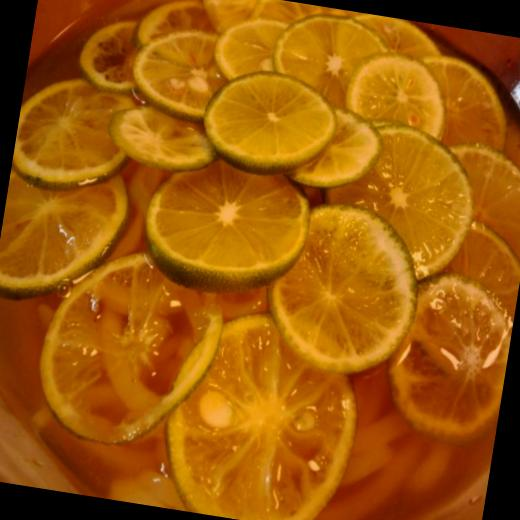Grape: (152, 298, 374, 520), (28, 238, 236, 464), (253, 200, 431, 392), (322, 112, 488, 290), (143, 153, 314, 304), (385, 269, 519, 445), (0, 150, 139, 309), (9, 66, 138, 198), (199, 61, 343, 179), (268, 3, 394, 117), (133, 22, 238, 125), (338, 44, 455, 132), (438, 136, 520, 259), (294, 101, 388, 200), (435, 52, 516, 151), (447, 218, 520, 318), (107, 106, 211, 176), (127, 0, 219, 63), (76, 14, 142, 100), (202, 0, 324, 42), (354, 18, 442, 64)
